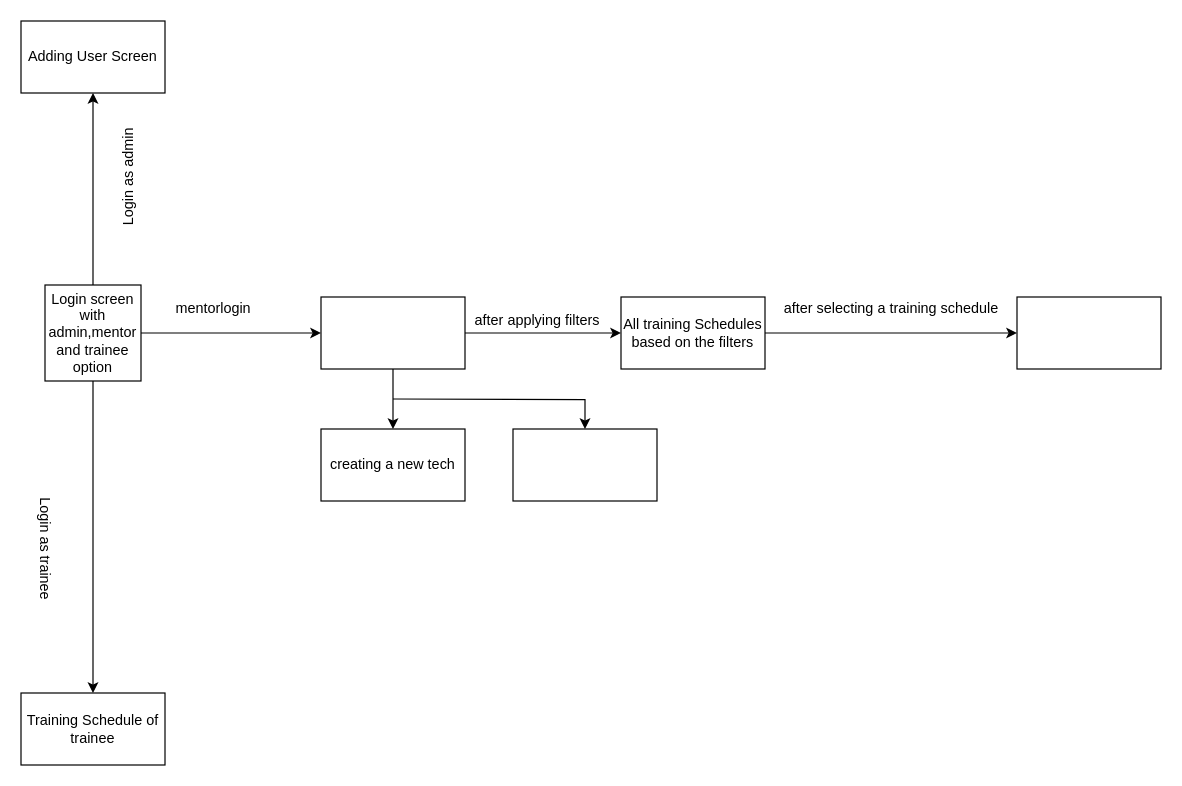
This 1182x786 diagram has some shape labels left out. Here are the shapes that lost their labels. From the top down, the centre of each, then its label:
At pixel 392 332: "Home screen with filters and tech list".
At pixel 1088 332: "Training schedule details".
At pixel 584 464: "Form page for creating a new schedule".
